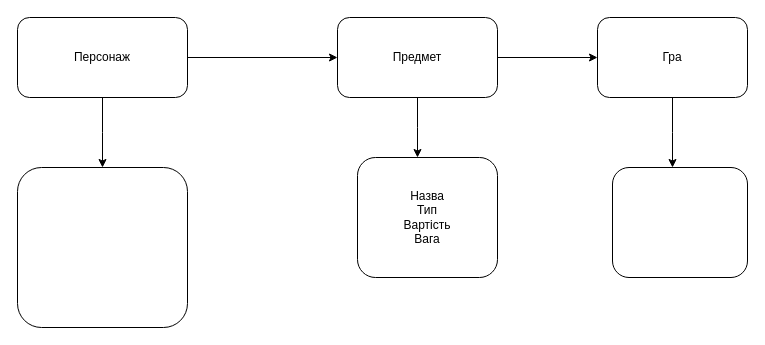
This 765x345 diagram has some shape labels left out. The box of each missing label's shape, as (x1, y1, x2, y2) in pixels:
Персонажі Предмети: (612, 166, 748, 278)
Ім'я Рівень Здоров`є сила спритність інтелект інвентар: (16, 166, 188, 328)
